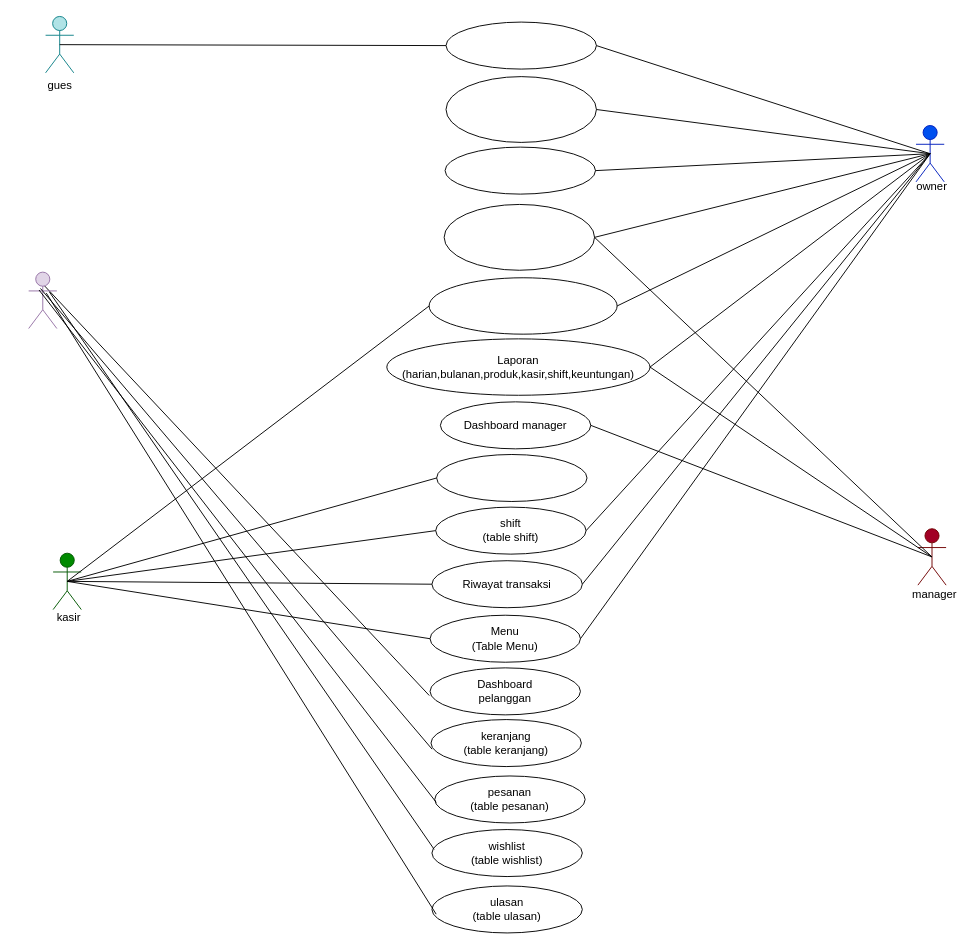
Image size: 979x949. Some labels were removed from this diagram. Each missing label, with the centre of its shape:
"Dashboard Admin/owner (mengambil data dari semua tabel)" goes at pixel 520 109.
"Dashboard kasir" goes at pixel 511 477.
"INVENTORY (Bahan Baku,stok,stok masuk,stok keluar,pembelian)" goes at pixel 519 237.
"landing page" goes at pixel 520 45.
"Login History" goes at pixel 519 170.
"pelanggan" goes at pixel 42 300.
"Transaksi (pos kasir,pembayaran,struk)" goes at pixel 522 305.
